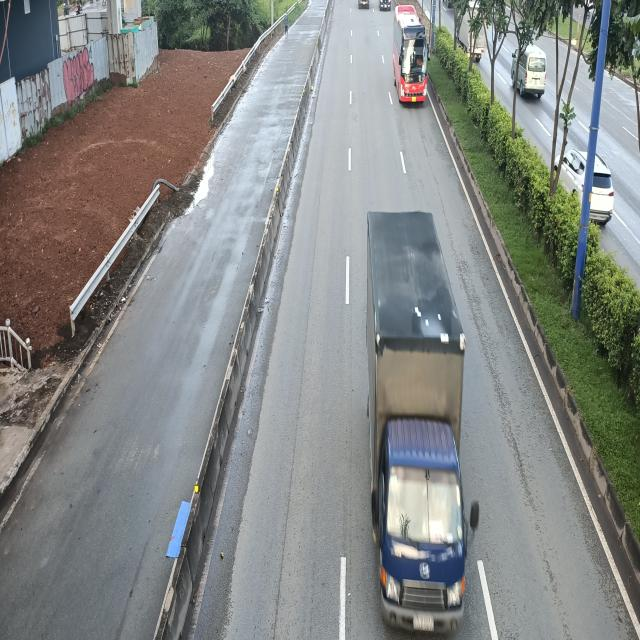coach: (395, 1, 431, 105)
truck: (368, 214, 477, 640)
